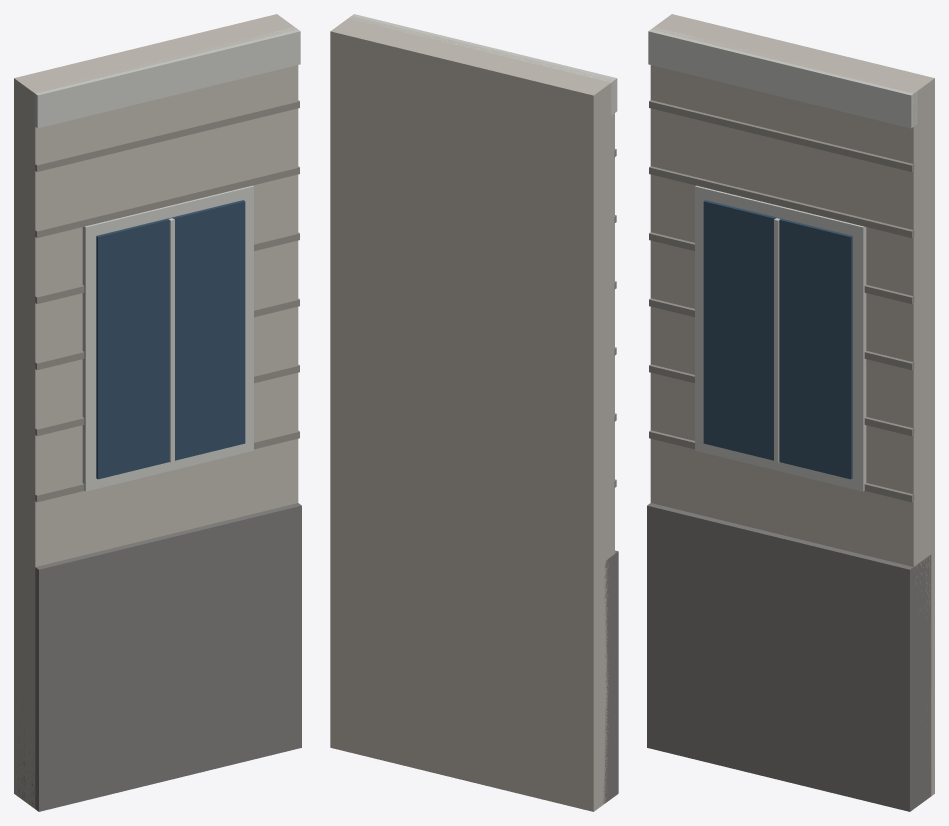
File: lodge_wall_window.obj
The picture shows the model from 3 angles, left to right: view 1: azimuth 30°, elevation 25°; view 2: azimuth 150°, elevation 25°; view 3: azimuth 330°, elevation 25°; orthographic projection.
Size of the model in its own units: 2.5 by 6.5 by 0.45.
